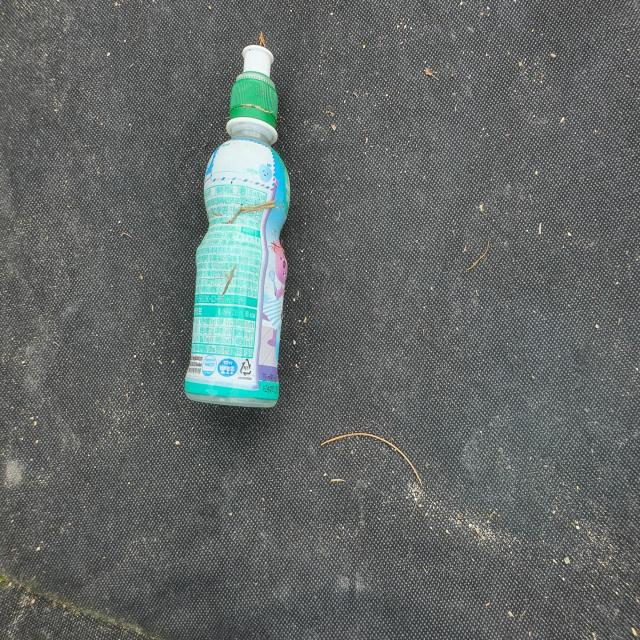plastic: (184, 44, 290, 407)
